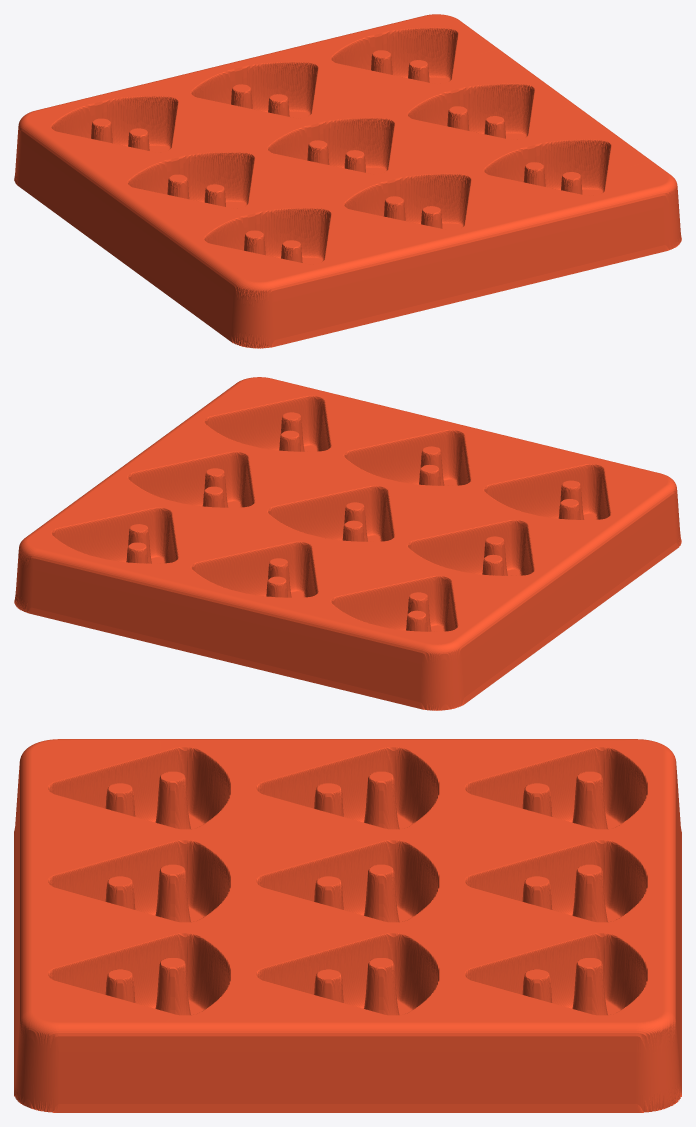
File: mold.glb
The picture shows the model from 3 angles, top to bottom: view 1: azimuth 30°, elevation 25°; view 2: azimuth 150°, elevation 25°; view 3: azimuth 270°, elevation 25°; orthographic projection. The views are drawn at different scales.
Parts seen in each view (by area): view 1: geometry_0; view 2: geometry_0; view 3: geometry_0.
Part boxes in pixels (x1,y1,x2,y2): geometry_0: (14,14,681,348); geometry_0: (14,377,681,710); geometry_0: (14,739,681,1112).
Size of the model in its own units: 0.1402 by 0.0182 by 0.1331.
